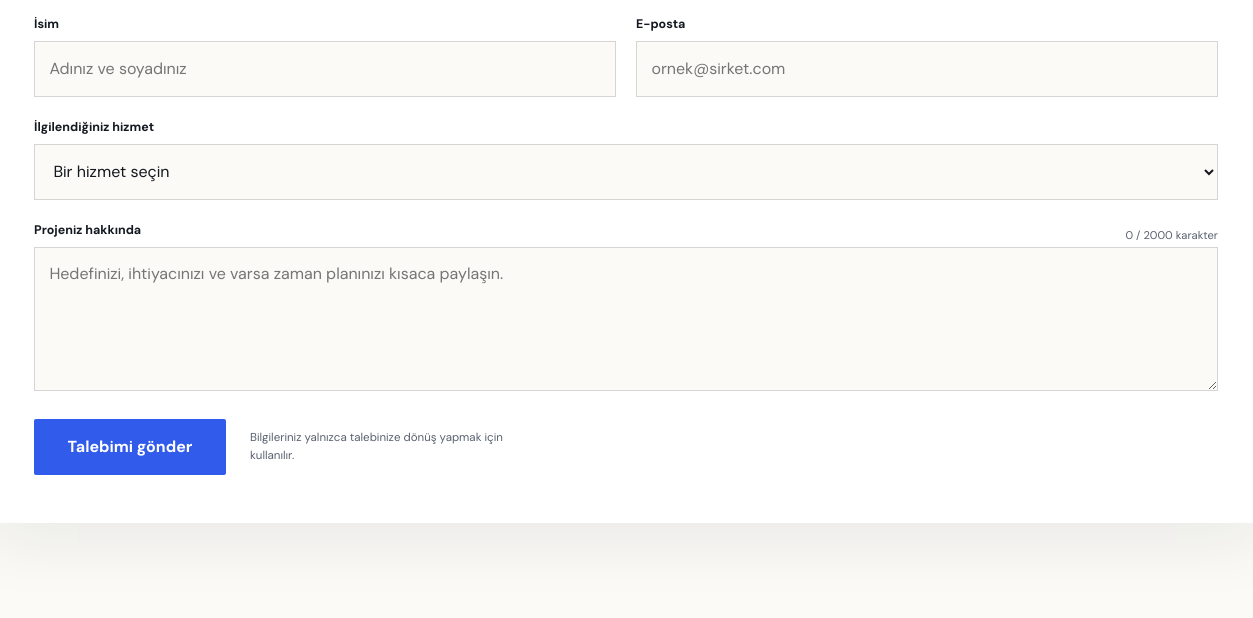
Test case: LeadForm › shows an error when persistence fails
Type "Ada Lovelace" into the field with id "name" at (325, 69), box [34,41,616,97]
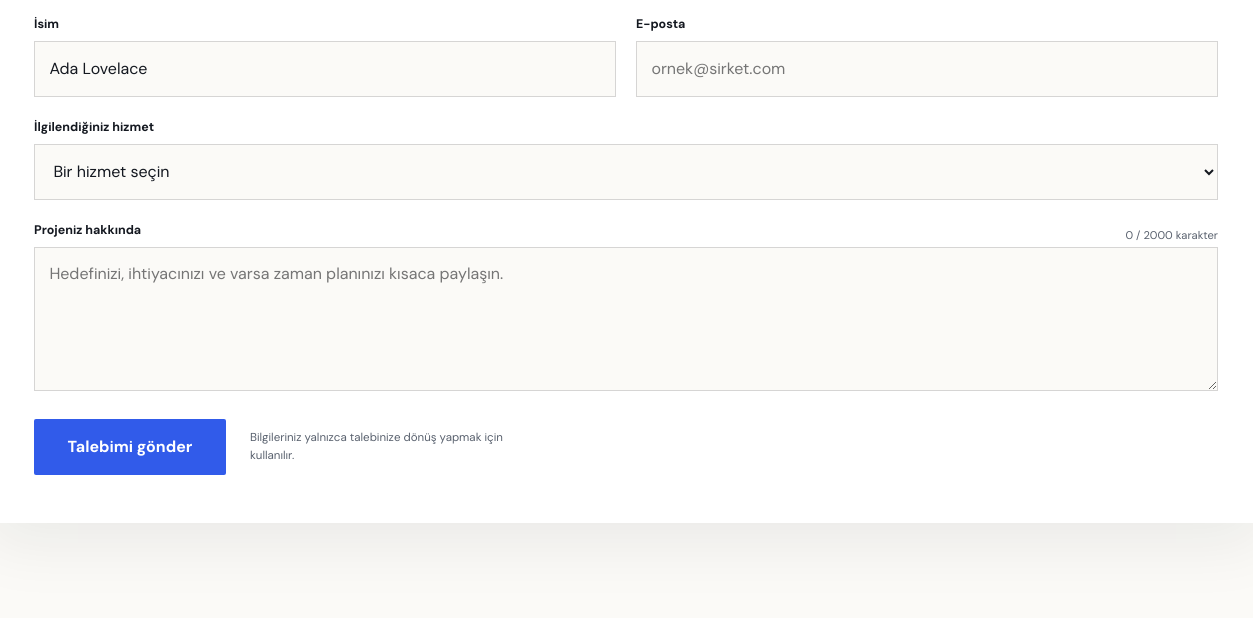
Type "ada@example.com" into the field with id "email" at (927, 69), box [636,41,1218,97]
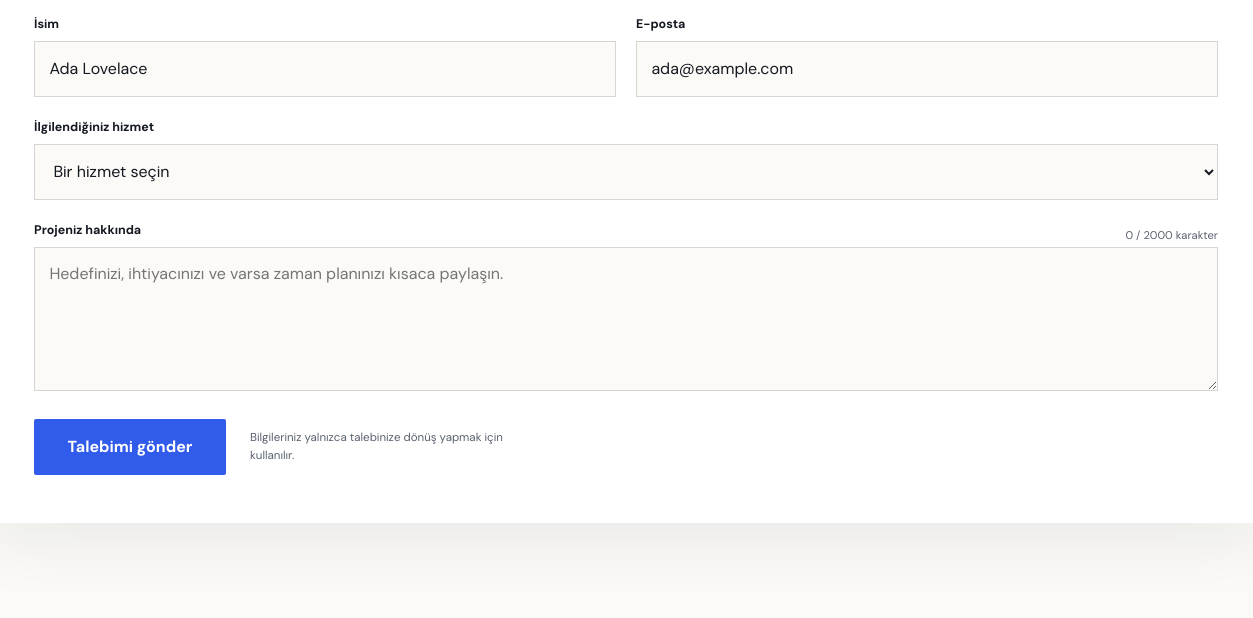
Select "Yazılım geliştirme" in the dropdown with id "service" at (626, 172), box [34,144,1218,200]
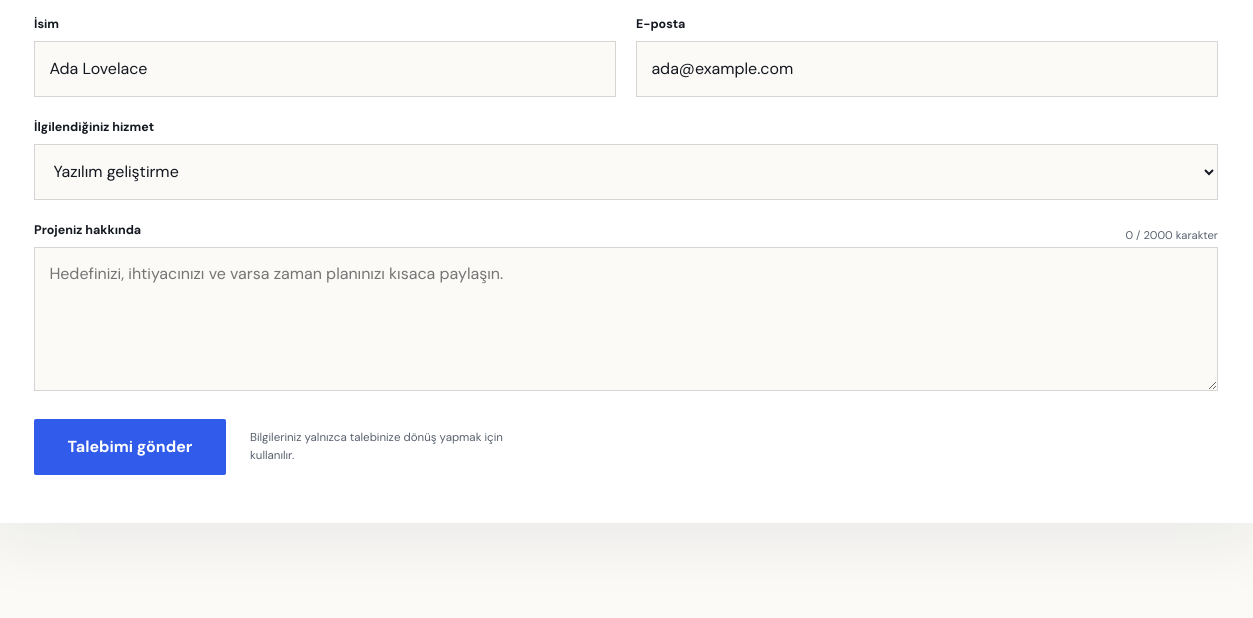
Replace the text in the text box with id "description" with "Yeni bir web uygulaması geliştirmek istiyorum." at (626, 319), box [34,247,1218,391]
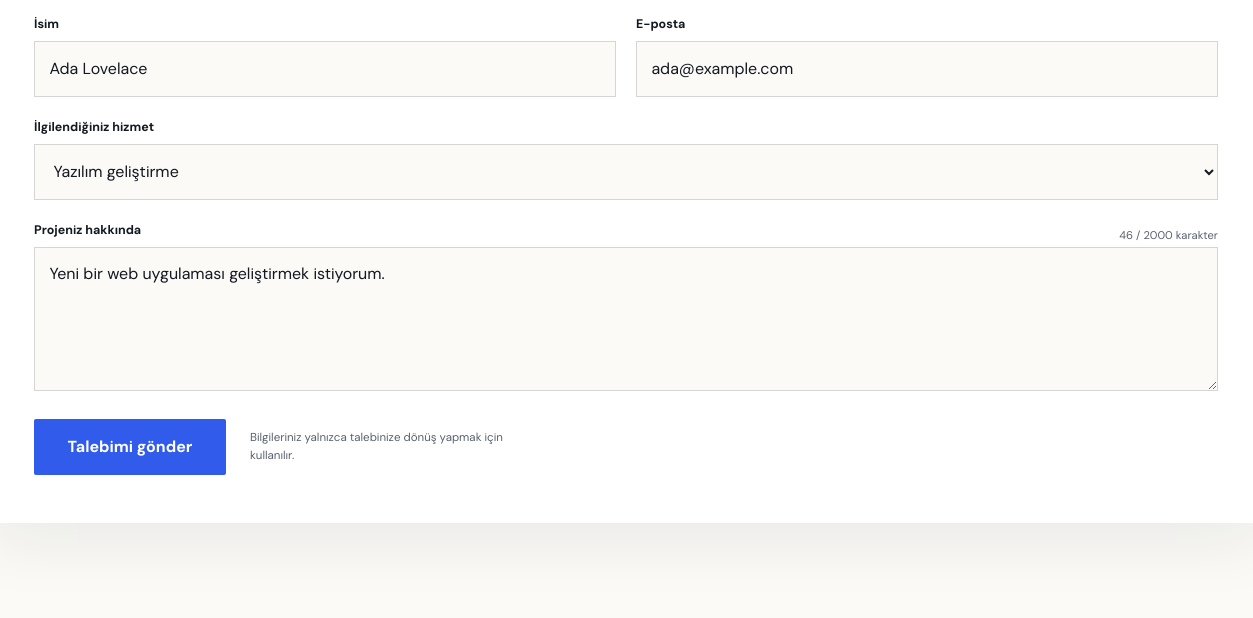
Submit the form
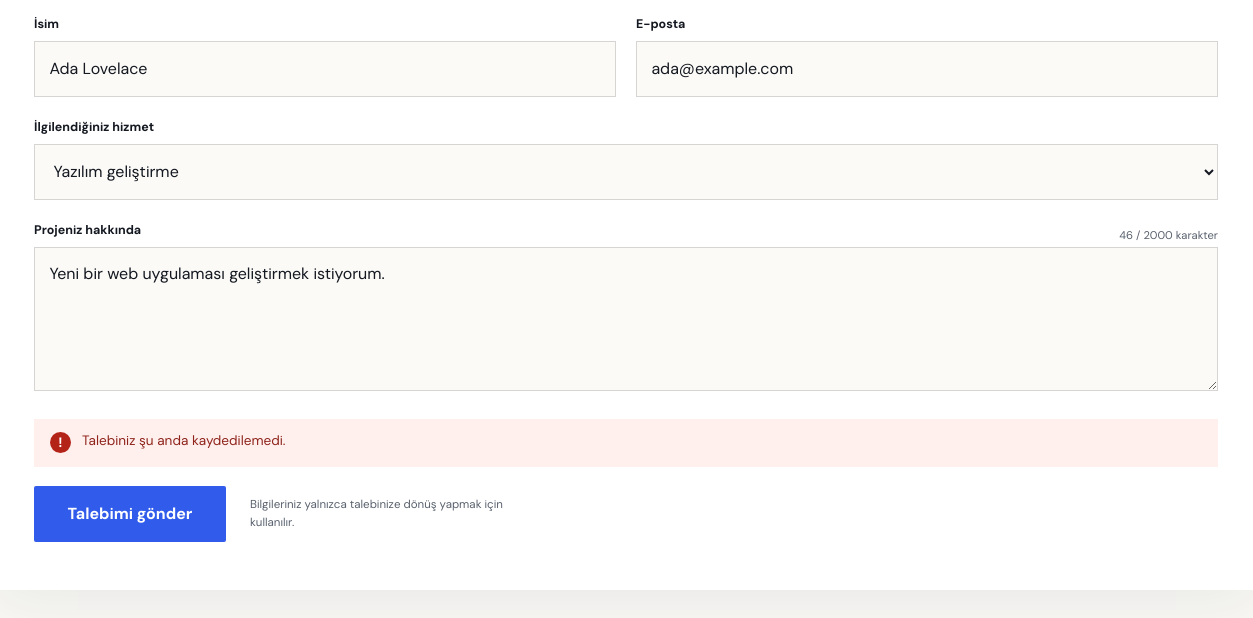
Check: the message "! Talebiniz şu anda kaydedilemedi." is shown, box [34,419,1218,467]
